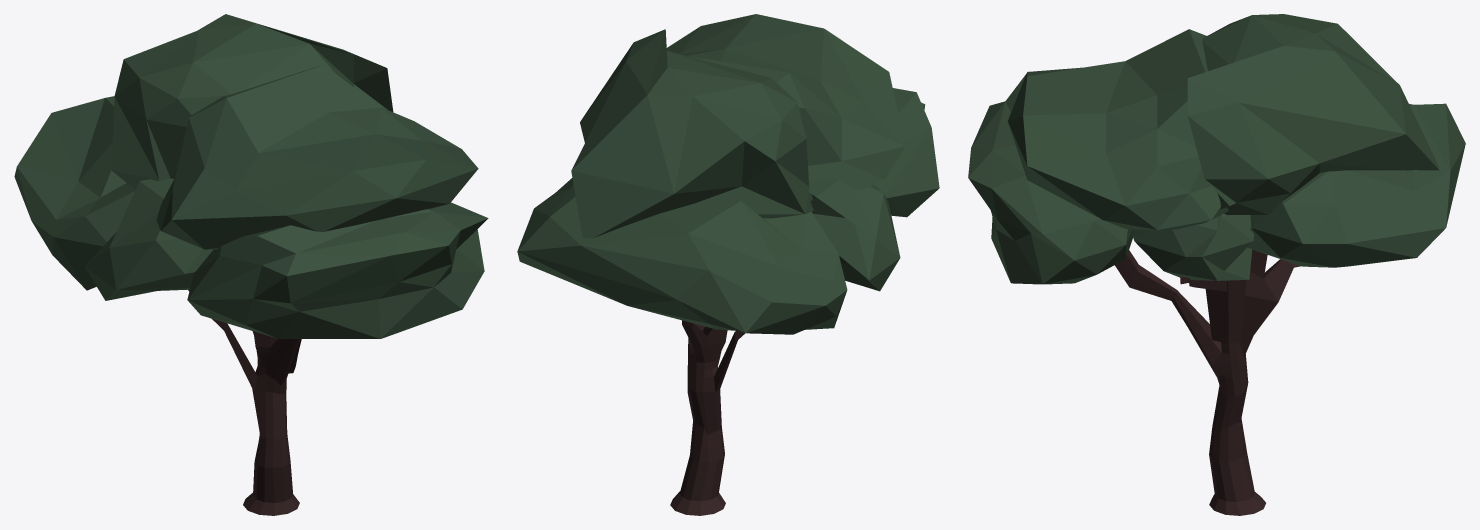
Rendered from algarrobo_00.fbx.
3 renders of one model, left to right at view 1: azimuth 30°, elevation 25°; view 2: azimuth 150°, elevation 25°; view 3: azimuth 270°, elevation 25°, orthographic. The views are drawn at different scales.
Visible parts, largest first — view 1: copa, tronco; view 2: copa, tronco; view 3: copa, tronco.
Part boxes in pixels (x1,y1,x2,y2): copa: (14, 14, 488, 338); tronco: (188, 289, 301, 515); copa: (517, 14, 939, 334); tronco: (670, 320, 744, 515); copa: (968, 14, 1465, 284); tronco: (1115, 249, 1300, 515).
Bounding box in the file's own units: 1832 × 2527 × 2467.
